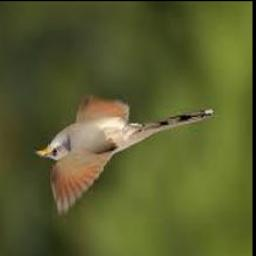Cuckoo: (35, 101, 213, 214)
